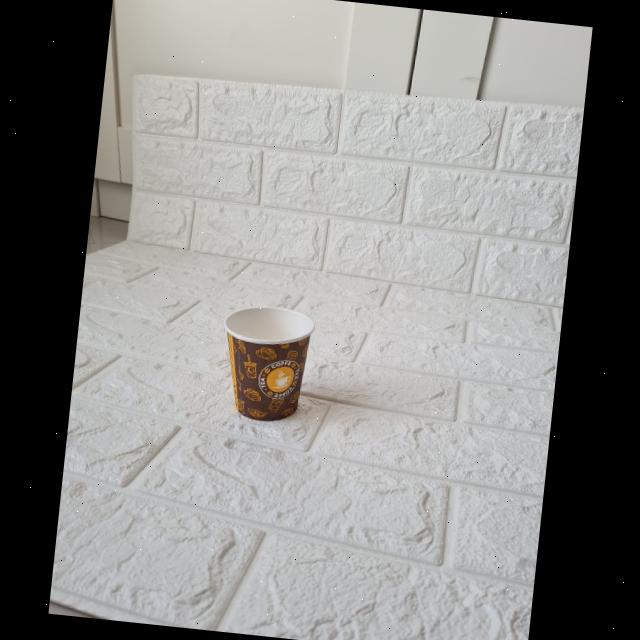trash: (215, 302, 318, 425)
